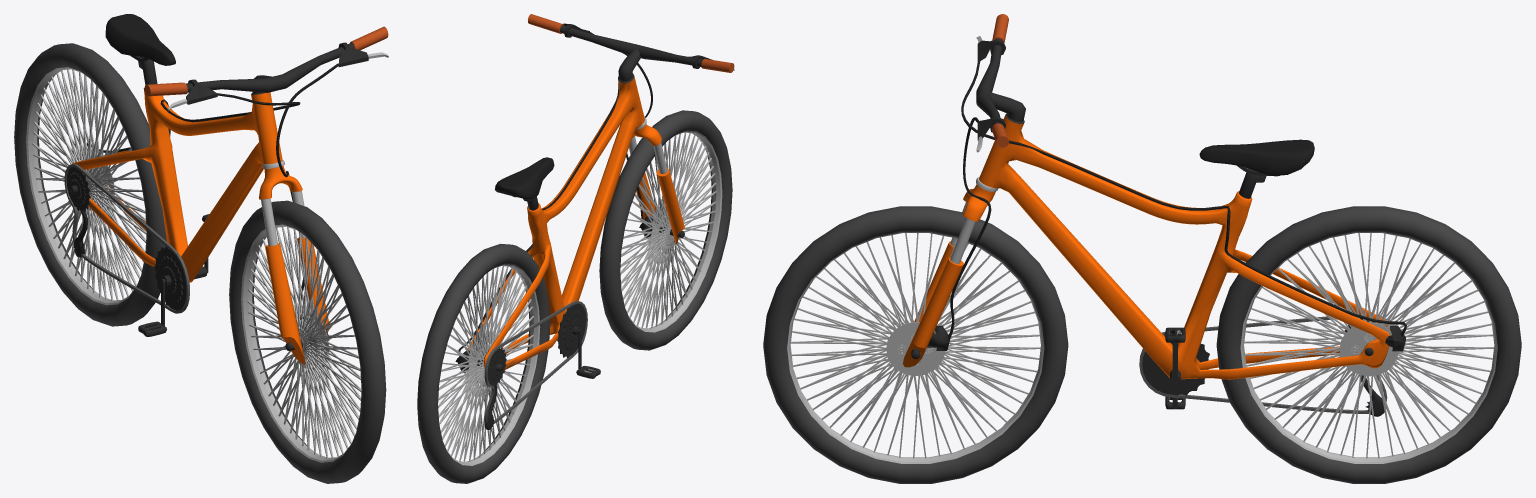
Rendered from bicycle_game_asset.glb.
3 renders of one model, left to right at view 1: azimuth 30°, elevation 25°; view 2: azimuth 150°, elevation 25°; view 3: azimuth 270°, elevation 25°, orthographic. The views are drawn at different scales.
Parts seen in each view (by area): view 1: FrontWheel, RearWheel, Bicycle, Handle, Seat, Pedalier, Chain; view 2: FrontWheel, RearWheel, Bicycle, Handle, Seat, Pedalier, Chain; view 3: FrontWheel, RearWheel, Bicycle, Handle, Seat, Pedalier, Chain.
Boxes of the visible parts, x1=… form: FrontWheel: x1=229, y1=200, x2=386, y2=483; RearWheel: x1=14, y1=43, x2=166, y2=326; Bicycle: x1=70, y1=88, x2=300, y2=282; Handle: x1=144, y1=26, x2=388, y2=364; Seat: x1=105, y1=14, x2=175, y2=84; Pedalier: x1=154, y1=221, x2=208, y2=325; Chain: x1=64, y1=163, x2=189, y2=313; FrontWheel: x1=599, y1=110, x2=732, y2=350; RearWheel: x1=417, y1=243, x2=550, y2=483; Bicycle: x1=455, y1=56, x2=692, y2=429; Handle: x1=528, y1=14, x2=734, y2=244; Seat: x1=495, y1=157, x2=554, y2=210; Pedalier: x1=557, y1=303, x2=585, y2=369; Chain: x1=484, y1=301, x2=587, y2=424; FrontWheel: x1=763, y1=206, x2=1068, y2=483; RearWheel: x1=1216, y1=206, x2=1521, y2=483; Bicycle: x1=961, y1=59, x2=1406, y2=416; Handle: x1=903, y1=14, x2=1025, y2=367; Seat: x1=1199, y1=139, x2=1314, y2=198; Pedalier: x1=1142, y1=334, x2=1209, y2=408; Chain: x1=1139, y1=315, x2=1390, y2=413.
Bounding box in the file's own units: 0.6603 × 1.03 × 1.73.
2 materials, 1 textured.
